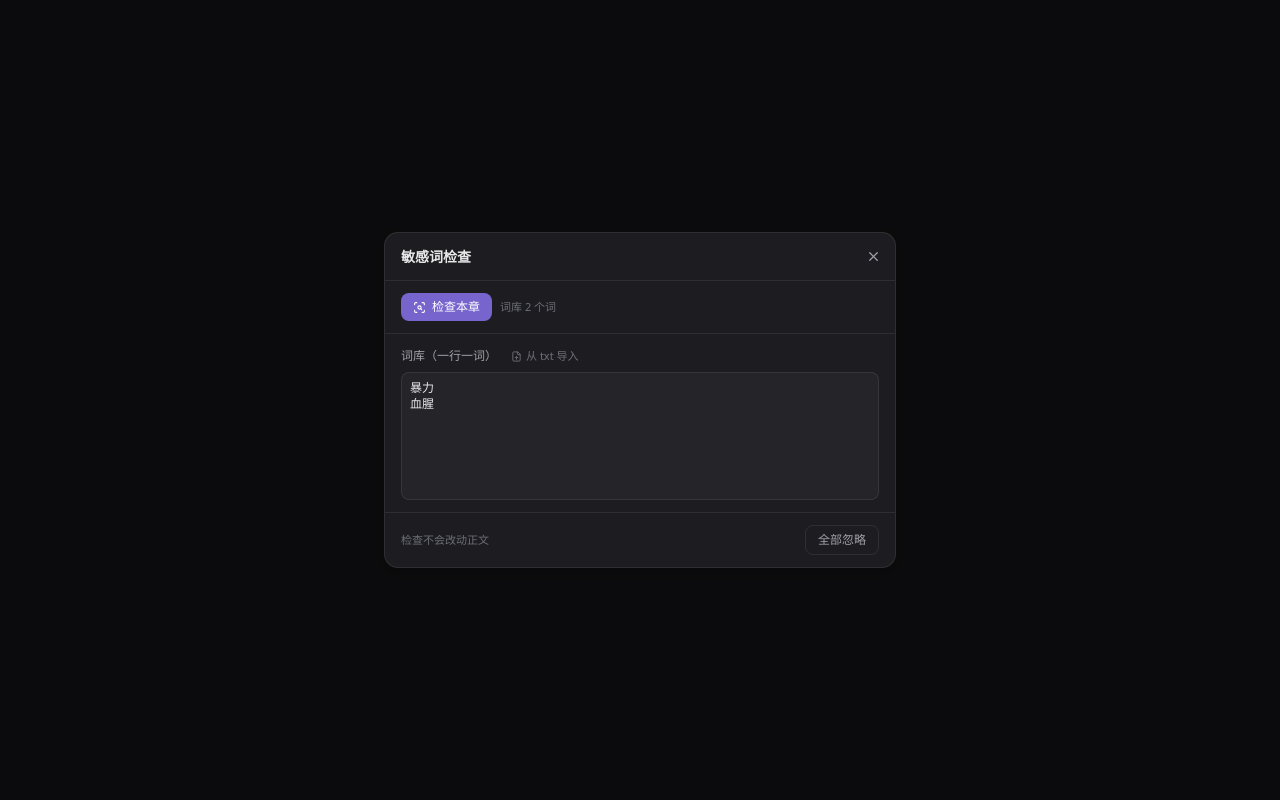
Test: SensitiveDialog › 从 txt 导入并入文本框（仍需保存才生效）
This screenshot has width=1280, height=800.
expect the text "词库 2 个词" is shown: met, box top-left (500, 299), bottom-right (556, 315)
Click the button "从 txt 导入" at (545, 356), box top-left (505, 346), bottom-right (584, 366)
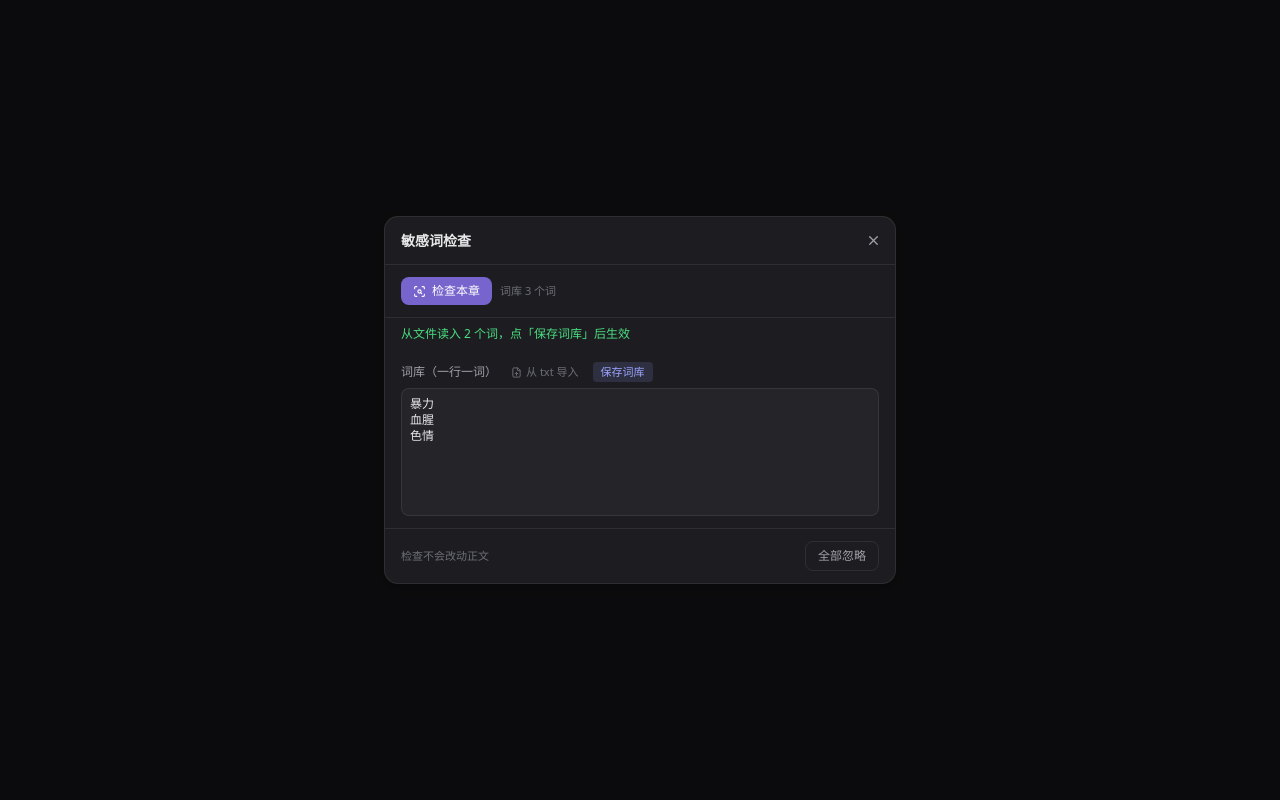
expect the text "从文件读入 2 个词，点「保存词库」后生效" is shown: met, box top-left (401, 325), bottom-right (630, 342)
